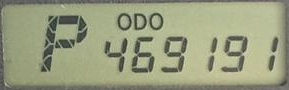1: (266, 36, 280, 72), (206, 36, 218, 73)
4: (103, 37, 128, 73)
6: (130, 35, 155, 74)
9: (159, 35, 190, 74), (220, 35, 248, 73)
X: (39, 14, 88, 73), (148, 12, 164, 30), (116, 12, 131, 31), (133, 12, 146, 30)
